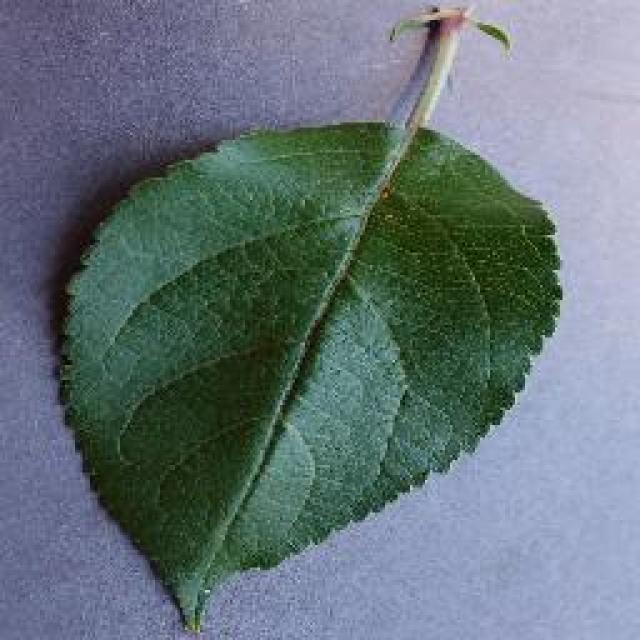apple healthy: (52, 0, 565, 632)
